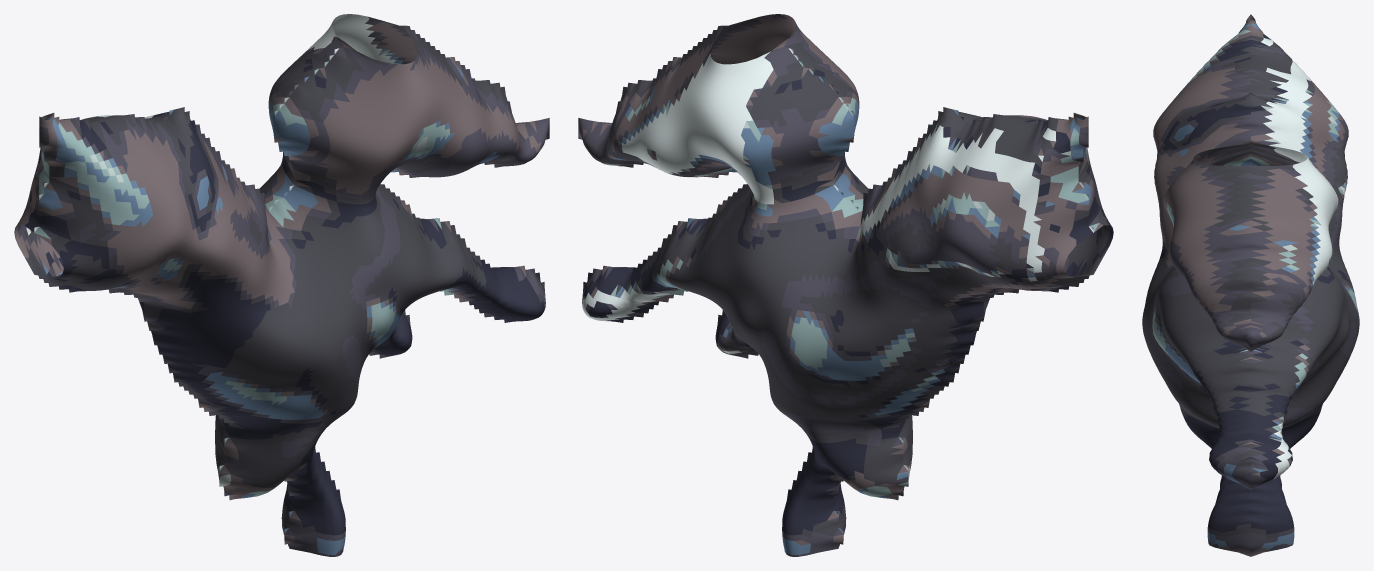
The model's file is mushvenom.glb.
3 renders of one model, left to right at view 1: azimuth 30°, elevation 25°; view 2: azimuth 150°, elevation 25°; view 3: azimuth 270°, elevation 25°, orthographic. The views are drawn at different scales.
Visible parts, largest first — view 1: mushvenom; view 2: mushvenom; view 3: mushvenom.
Boxes of the visible parts, <box> form: mushvenom: <box>14,14,549,556</box>; mushvenom: <box>578,14,1113,556</box>; mushvenom: <box>1142,14,1359,556</box>.
Bounding box in the file's own units: 827 × 757 × 355.
